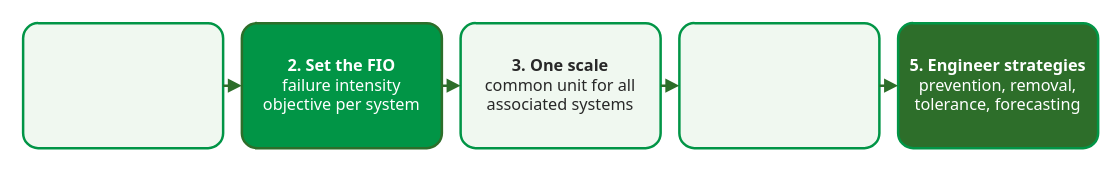
This 1120x170 diagram has some shape labels left out. The box of each missing label's shape, as (x1, y1, x2, y2) in pixels:
1. Define failure severity classes (cost, capability, human life, environment): (21, 21, 224, 149)
4. Developed software subtract acquired components' intensity: (678, 21, 880, 149)
